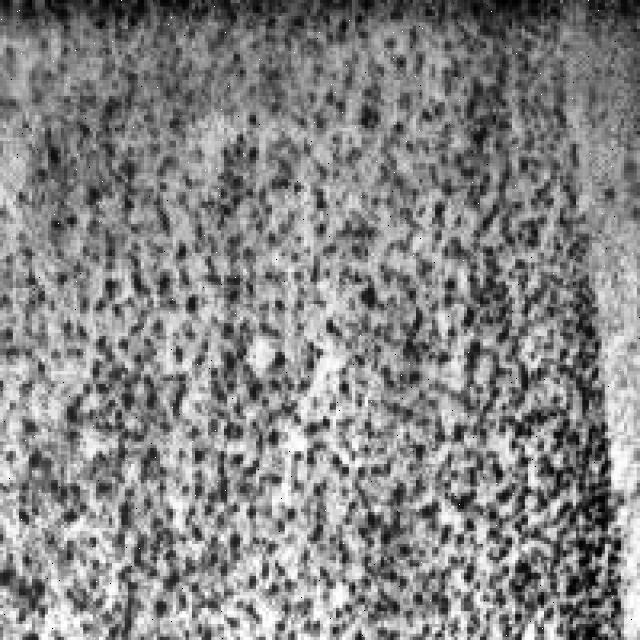Rolled_in_Scale: (16, 0, 637, 627)
